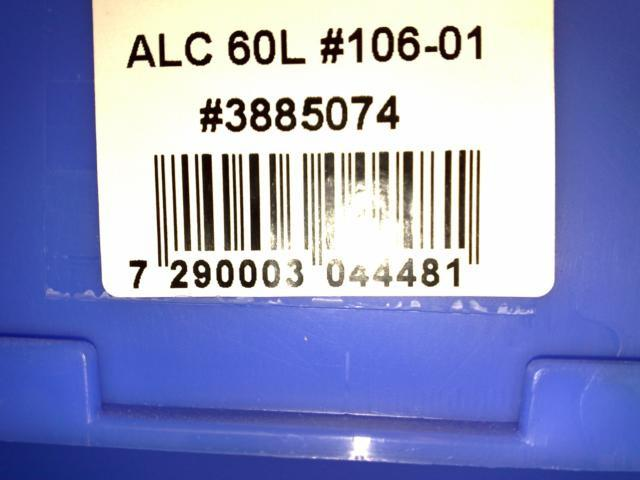Barcode: (121, 141, 506, 294)
